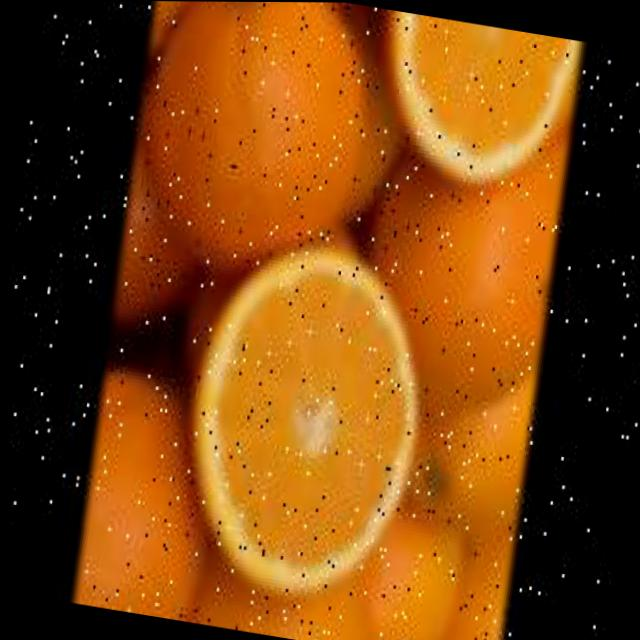orange: (123, 1, 411, 299), (344, 127, 563, 420), (64, 366, 226, 623), (412, 358, 535, 553), (188, 543, 374, 640), (350, 504, 470, 640), (423, 517, 513, 640), (385, 437, 469, 545)
